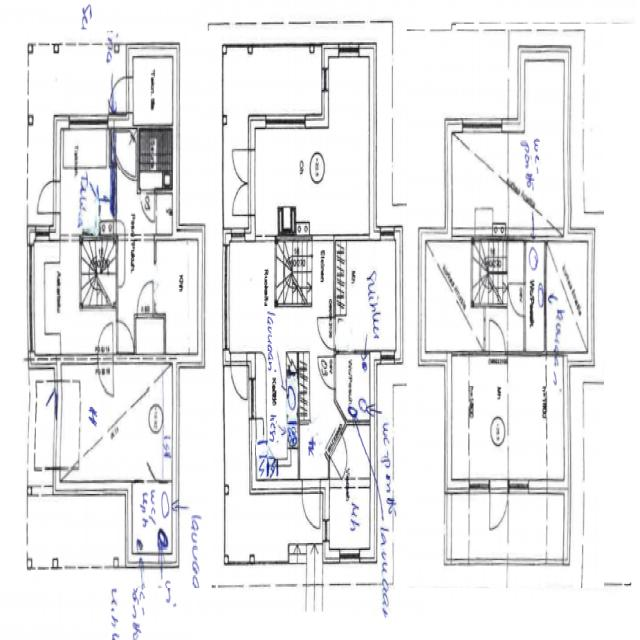door: (231, 147, 253, 220), (487, 478, 510, 536), (300, 480, 322, 532), (110, 71, 132, 119), (35, 175, 59, 219), (229, 352, 250, 402), (486, 312, 508, 359), (97, 341, 115, 395), (135, 275, 157, 319), (316, 312, 338, 352), (96, 317, 116, 361), (115, 315, 135, 356), (138, 185, 157, 228), (318, 350, 338, 390), (507, 280, 526, 318), (114, 215, 128, 239)
window: (220, 240, 232, 345), (462, 114, 504, 136), (266, 110, 306, 130), (68, 110, 108, 128), (61, 346, 95, 366), (50, 118, 60, 185), (339, 545, 362, 564), (338, 40, 360, 59), (34, 349, 56, 367), (378, 348, 396, 367)
zone: (59, 360, 172, 480), (251, 121, 369, 234), (314, 42, 372, 232), (510, 51, 569, 237), (28, 237, 113, 356), (494, 352, 566, 489), (333, 236, 402, 352), (224, 236, 290, 354), (26, 492, 130, 566), (450, 127, 516, 236), (250, 344, 300, 480), (56, 120, 114, 237), (422, 237, 475, 354), (152, 236, 202, 358), (544, 236, 594, 355), (325, 476, 373, 559), (130, 479, 174, 564), (130, 48, 176, 129), (524, 240, 546, 352), (338, 349, 372, 419), (138, 125, 174, 188), (132, 313, 166, 358)
